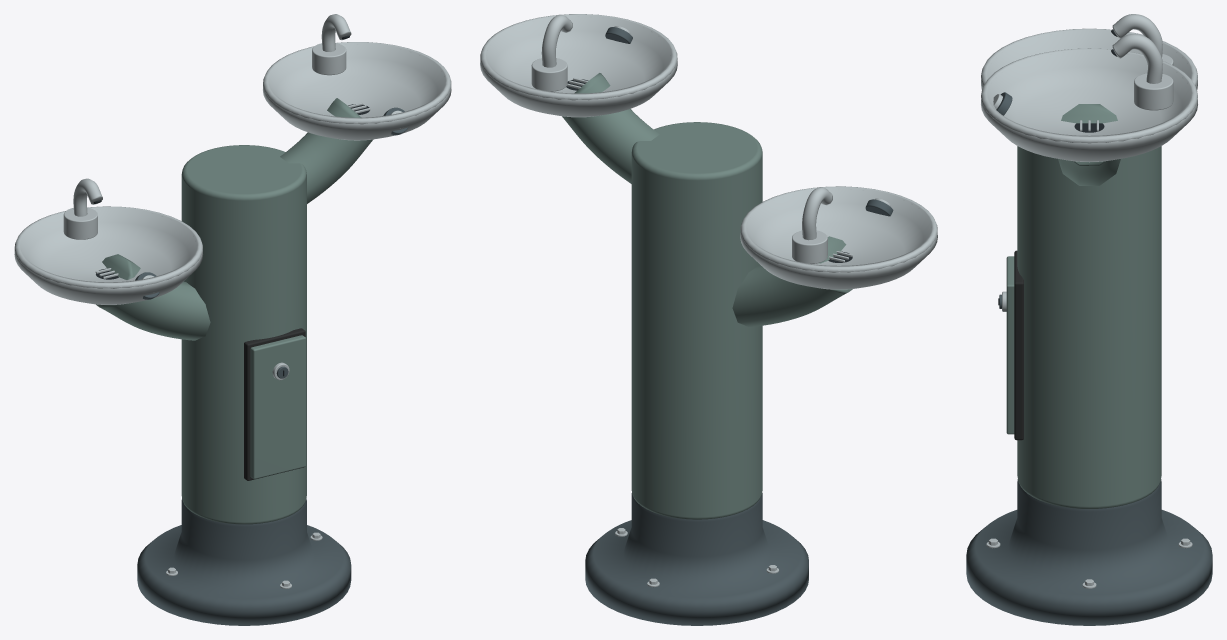
File: city-drinking-fountain.glb
3 views of the same model, side by side, from view 1: azimuth 30°, elevation 25°; view 2: azimuth 150°, elevation 25°; view 3: azimuth 270°, elevation 25° (orthographic). The views are drawn at different scales.
Parts seen in each view (by area): view 1: Pedestal column, Pedestal base, Drinking bowl.001, Drinking bowl, Service hatch, Cast supporting arm, Cast supporting arm.001, Rolled bowl rim, Rolled bowl rim.001, Service hatch seal, Bubbler mounting boss, Bubbler mounting boss.001 (+2 smaller); view 2: Pedestal column, Pedestal base, Drinking bowl, Drinking bowl.001, Cast supporting arm, Cast supporting arm.001, Rolled bowl rim, Rolled bowl rim.001, Bubbler mounting boss.001, Bubbler mounting boss, Bubbler swan neck, Bubbler swan neck.001; view 3: Pedestal column, Pedestal base, Drinking bowl.001, Drinking bowl, Rolled bowl rim.001, Cast supporting arm.001, Service hatch seal, Service hatch, Bubbler mounting boss.001, Bubbler swan neck.001, Bubbler swan neck, Rolled bowl rim.
Boxes of the visible parts, x1=… form: Pedestal column: x1=181, y1=145, x2=306, y2=524; Pedestal base: x1=137, y1=498, x2=351, y2=625; Drinking bowl.001: x1=263, y1=42, x2=451, y2=140; Drinking bowl: x1=14, y1=207, x2=203, y2=304; Service hatch: x1=250, y1=335, x2=305, y2=479; Cast supporting arm: x1=96, y1=254, x2=210, y2=340; Cast supporting arm.001: x1=280, y1=98, x2=373, y2=203; Rolled bowl rim: x1=14, y1=206, x2=202, y2=288; Rolled bowl rim.001: x1=263, y1=42, x2=451, y2=124; Service hatch seal: x1=244, y1=328, x2=305, y2=480; Bubbler mounting boss: x1=63, y1=207, x2=97, y2=239; Bubbler mounting boss.001: x1=312, y1=43, x2=346, y2=75; Pedestal column: x1=631, y1=122, x2=762, y2=519; Pedestal base: x1=585, y1=493, x2=808, y2=625; Drinking bowl: x1=740, y1=187, x2=937, y2=289; Drinking bowl.001: x1=480, y1=15, x2=677, y2=117; Cast supporting arm: x1=732, y1=236, x2=852, y2=326; Cast supporting arm.001: x1=562, y1=73, x2=659, y2=183; Rolled bowl rim: x1=740, y1=186, x2=937, y2=272; Rolled bowl rim.001: x1=480, y1=14, x2=677, y2=100; Bubbler mounting boss.001: x1=531, y1=58, x2=567, y2=91; Bubbler mounting boss: x1=792, y1=230, x2=827, y2=263; Bubbler swan neck: x1=802, y1=187, x2=832, y2=240; Bubbler swan neck.001: x1=541, y1=14, x2=572, y2=67; Pedestal column: x1=1017, y1=146, x2=1161, y2=508; Pedestal base: x1=966, y1=479, x2=1212, y2=625; Drinking bowl.001: x1=981, y1=49, x2=1197, y2=162; Drinking bowl: x1=981, y1=29, x2=1197, y2=89; Rolled bowl rim.001: x1=981, y1=48, x2=1197, y2=143; Cast supporting arm.001: x1=1058, y1=104, x2=1120, y2=185; Service hatch seal: x1=1014, y1=250, x2=1023, y2=440; Service hatch: x1=1006, y1=256, x2=1014, y2=434; Bubbler mounting boss.001: x1=1134, y1=73, x2=1173, y2=110; Bubbler swan neck.001: x1=1112, y1=34, x2=1162, y2=83; Bubbler swan neck: x1=1112, y1=14, x2=1162, y2=57; Rolled bowl rim: x1=981, y1=28, x2=1197, y2=85.
Size of the model in its own units: 0.912 by 1.11 by 0.41.
